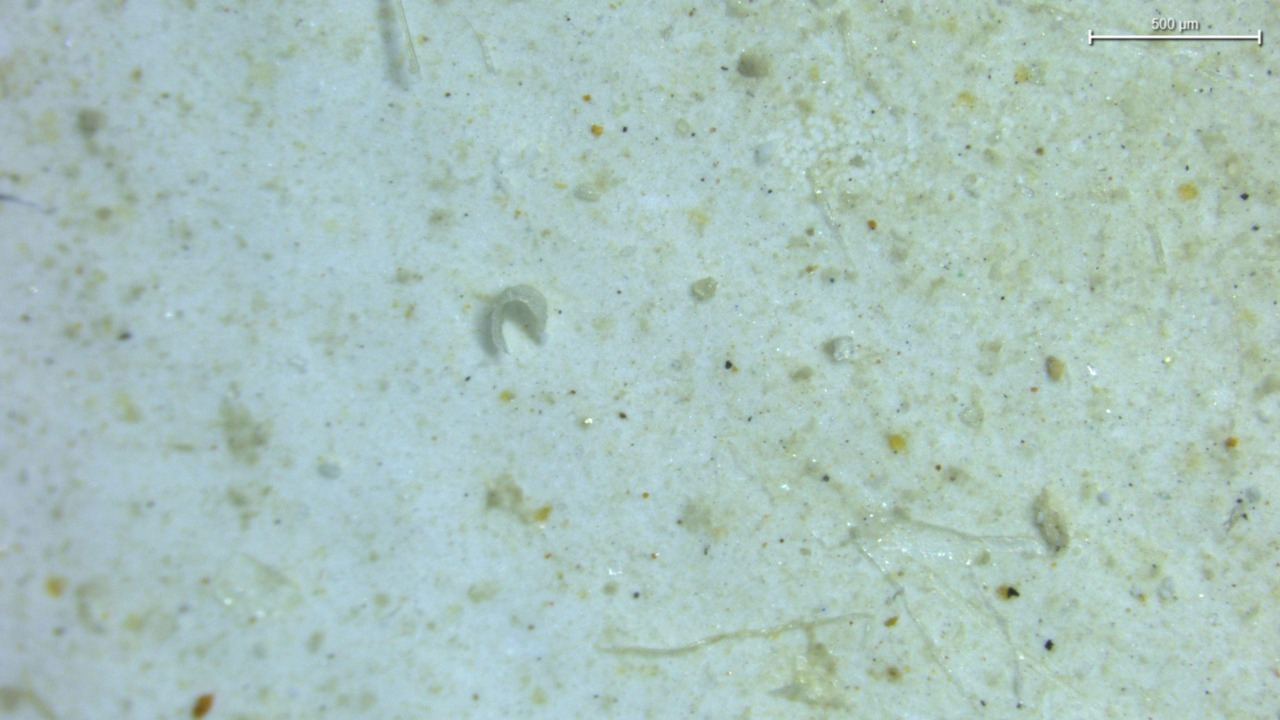microplastic_fragment: (486, 284, 548, 353), (1032, 487, 1069, 552), (822, 336, 858, 363), (690, 277, 717, 300)
